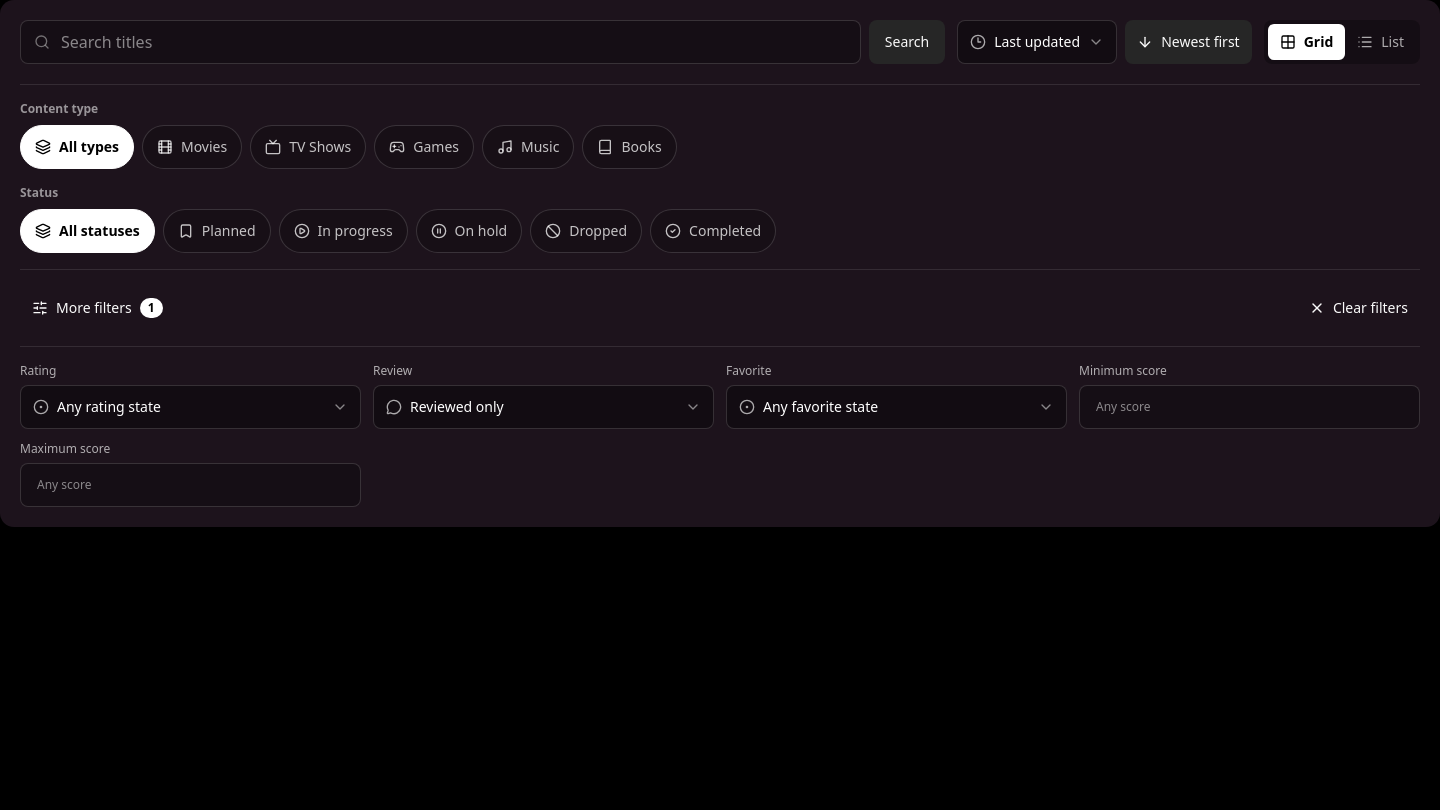
it: profile progress toolbar › uses icon menus for advanced categorical filters
Click the button "Any rating state" at (109, 406), box [20,385,361,429]
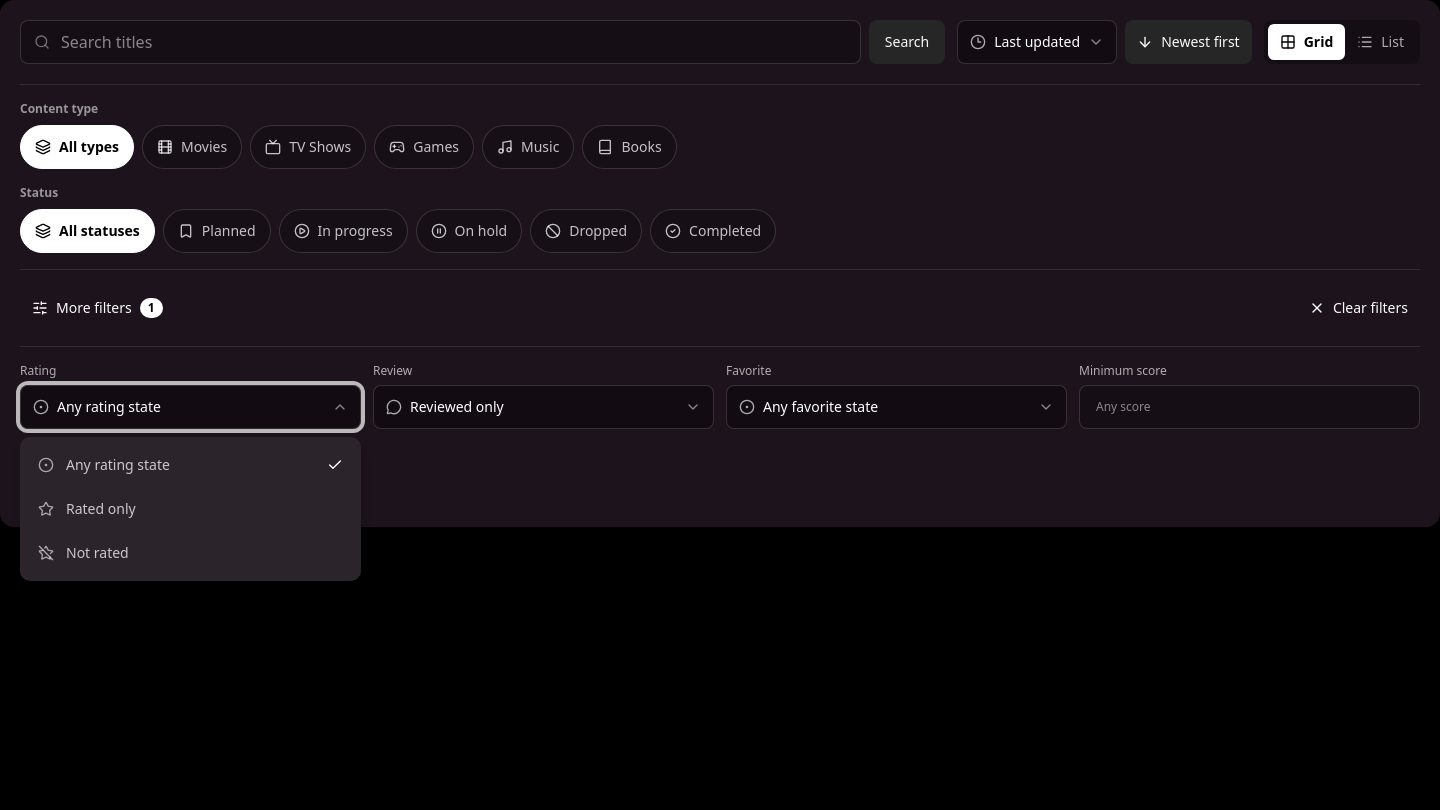
Press Escape
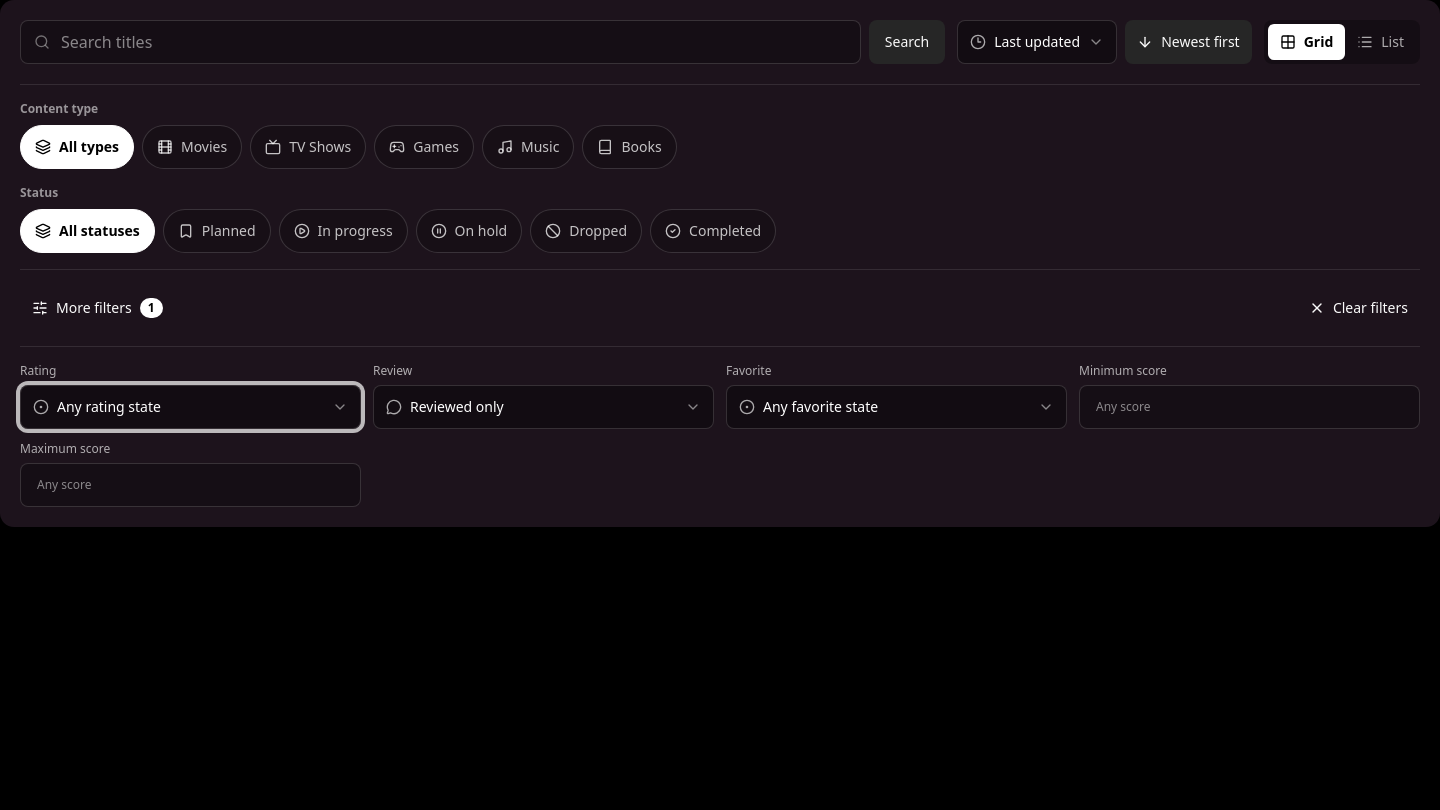
Expected: the button "Any rating state" is collapsed, [20,385,361,429]
